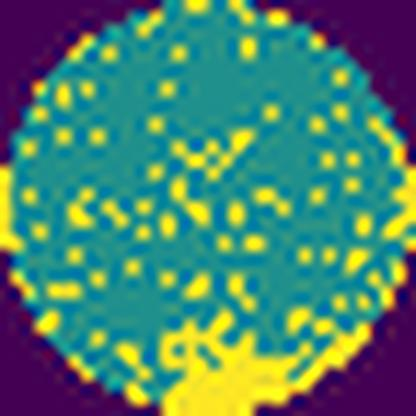Edge-Loc: (149, 304, 371, 416)
